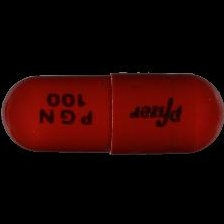0071-1015: (0, 0, 224, 224)
